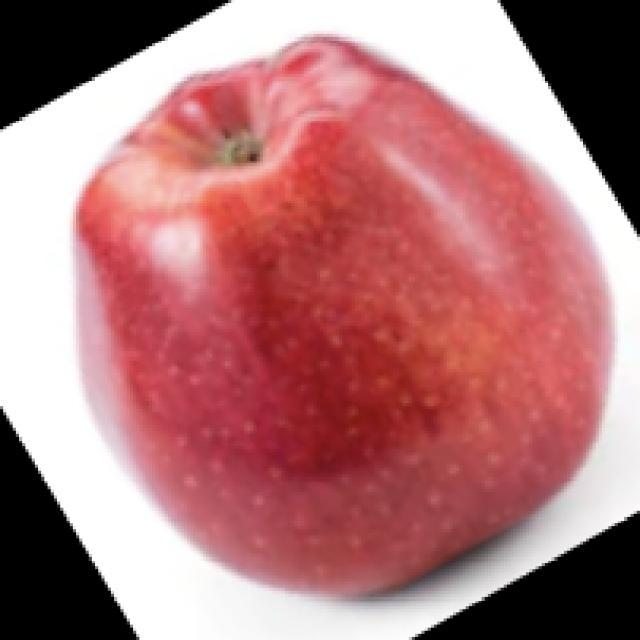Fresh Apple: (64, 53, 608, 580)
